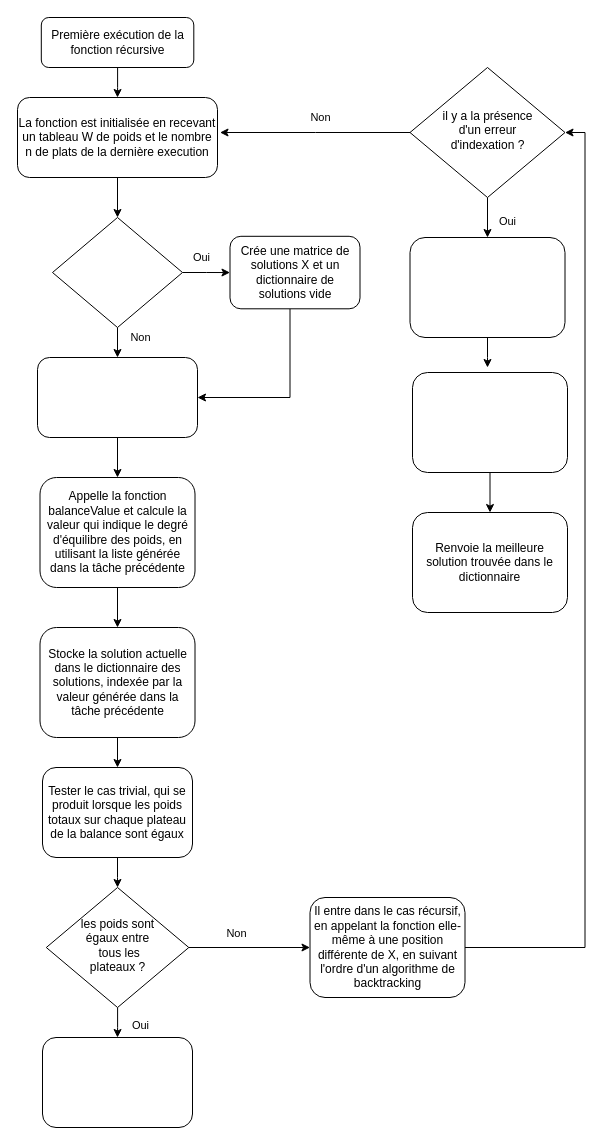
Some shapes in this 611 by 1145 pixel diagram are drawn without their labels. The centre of each missing label's shape, as x and y in pixels:
Appelle la fonction totalWeight pour calculer la liste des poids équilibrés: point 117,397
Cas trivial atteint : Retourne la solution optimale trouvée.: point 117,1082
Indique que le programme a essayé toutes les solutions possibles: point 487,287
parcourt le dictionnaire des solutions et trouve la meilleure solution: point 490,422
Premier exécution de la fonction ?: point 117,272
